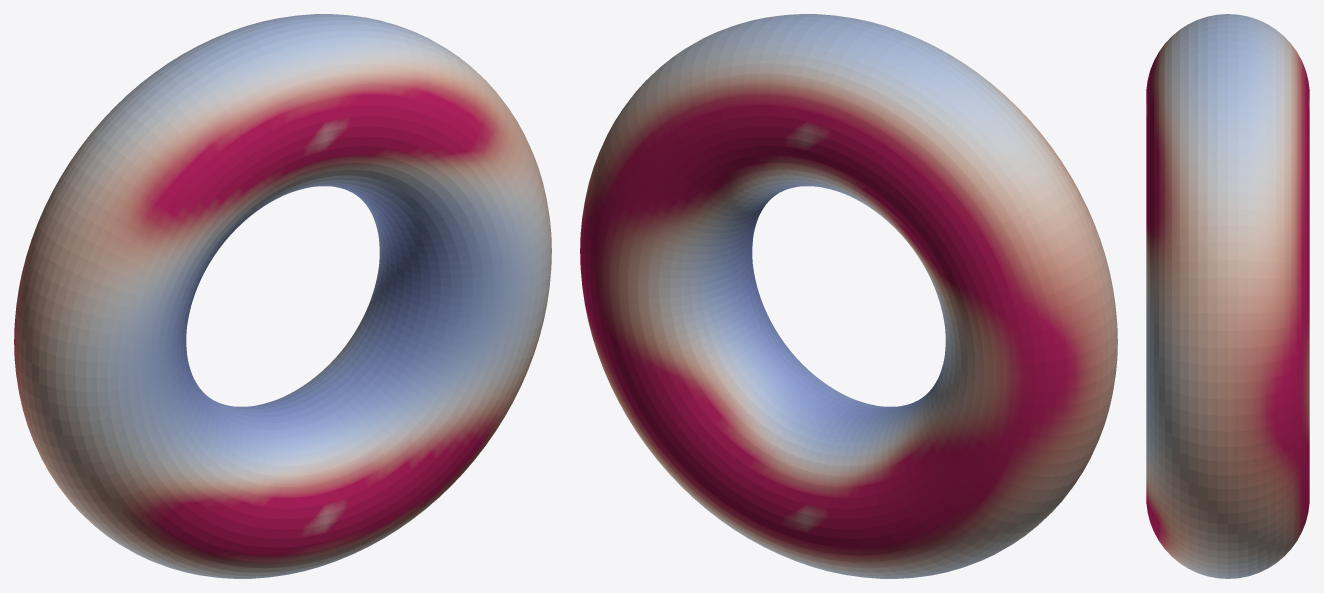
3 views of the same model, side by side, from view 1: azimuth 30°, elevation 25°; view 2: azimuth 150°, elevation 25°; view 3: azimuth 270°, elevation 25° (orthographic). The views are drawn at different scales.
Parts seen in each view (by area): view 1: world; view 2: world; view 3: world.
Boxes of the visible parts, x1=… form: world: x1=14, y1=14, x2=551, y2=578; world: x1=580, y1=14, x2=1117, y2=578; world: x1=1146, y1=14, x2=1309, y2=578.
Size of the model in its own units: 23.47 by 23.47 by 6.79.
